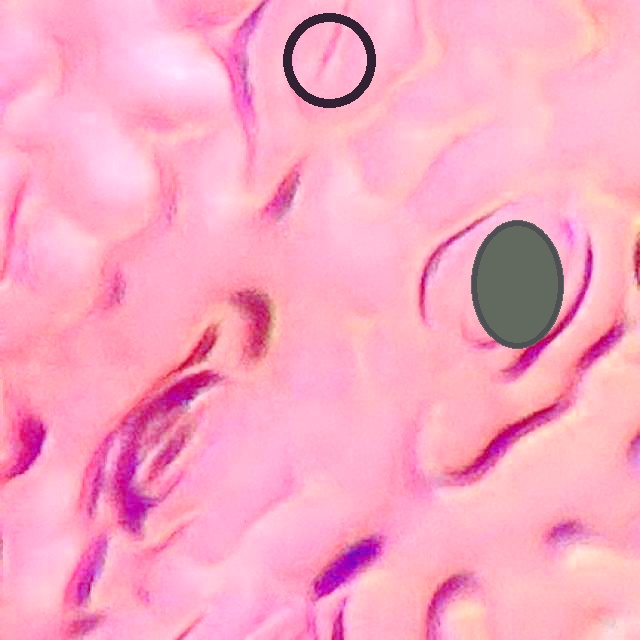close: (282, 13, 376, 108)
open: (471, 219, 563, 348)
